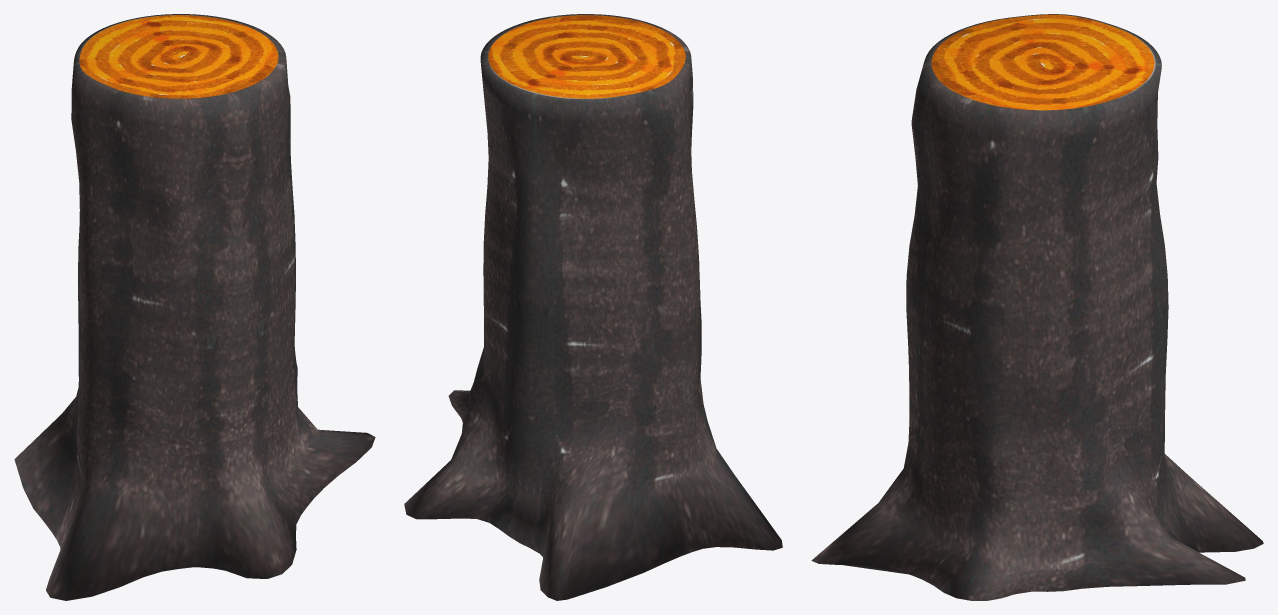
File: grand-arbre-seul(1).fbx
The picture shows the model from 3 angles, left to right: view 1: azimuth 30°, elevation 25°; view 2: azimuth 150°, elevation 25°; view 3: azimuth 270°, elevation 25°; orthographic projection. The views are drawn at different scales.
Visible parts, largest first — view 1: Cylinder; view 2: Cylinder; view 3: Cylinder.
Part boxes in pixels (x1=…): Cylinder: x1=14, y1=14, x2=375, y2=600; Cylinder: x1=404, y1=14, x2=782, y2=600; Cylinder: x1=811, y1=14, x2=1263, y2=600.
Bounding box in the file's own units: 355 × 494 × 378.
Materials: 2 (2 with a texture image).
